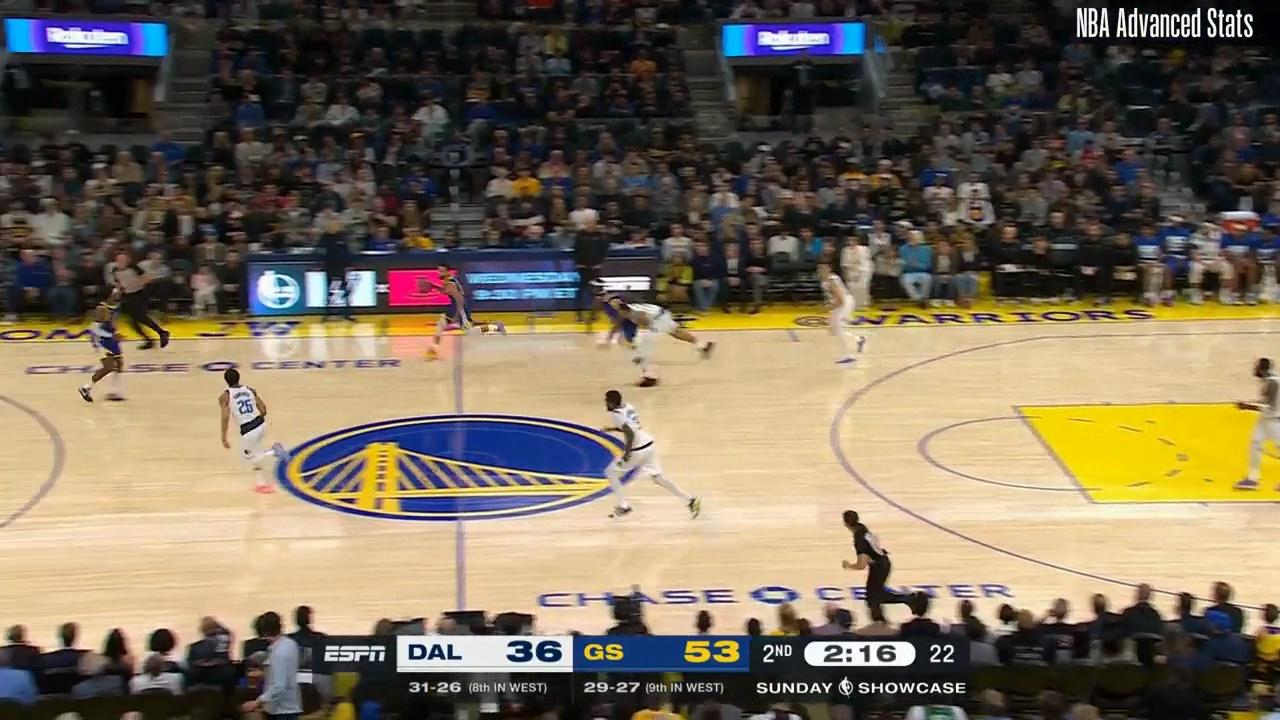basketball: (414, 274, 437, 297)
